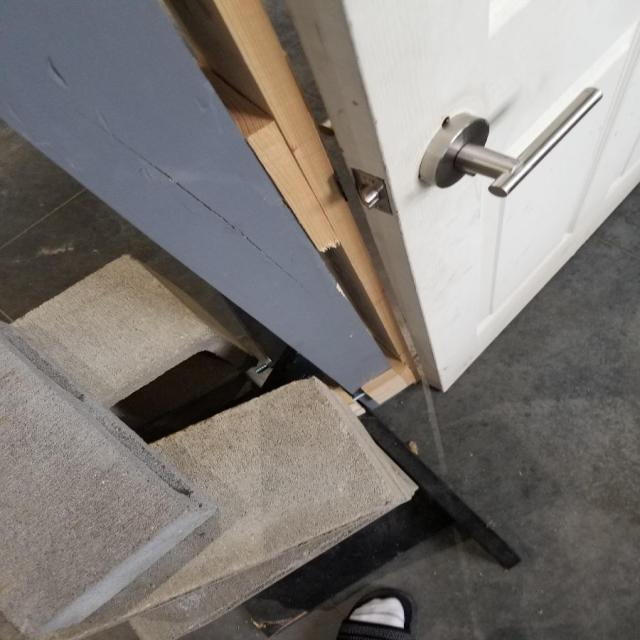door: (414, 84, 604, 202)
